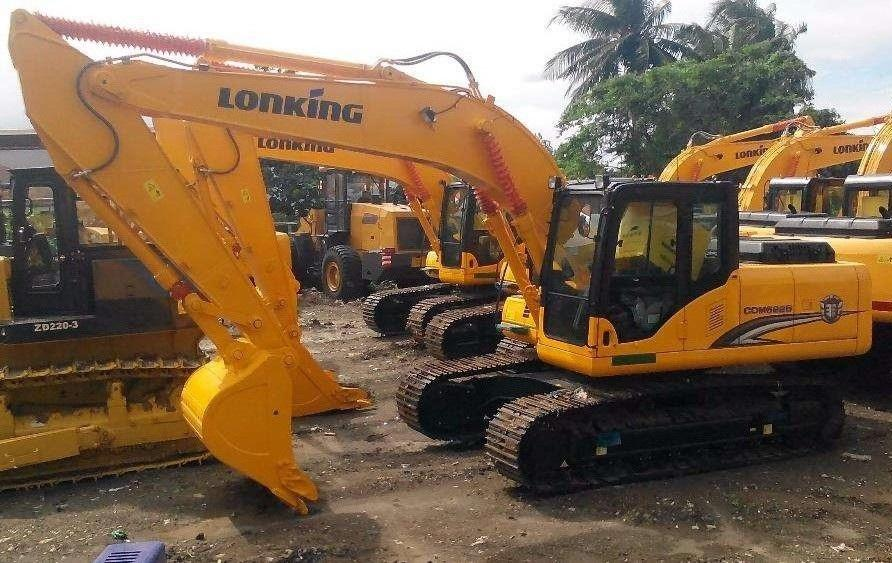backhoe: (7, 11, 878, 502)
